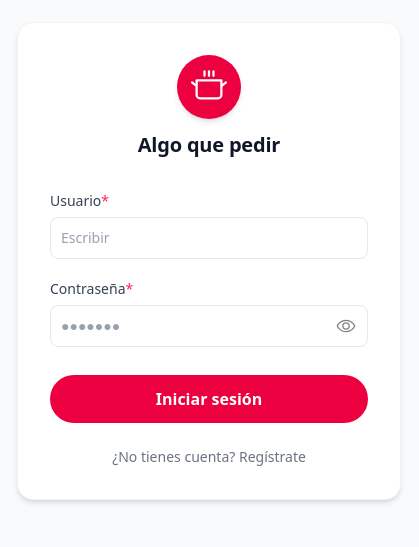
Test case: AuthForm › Modo Login › muestra errores cuando se envía el formulario con campos vacíos
Click the button "Iniciar sesión".
click(209, 399)  # box [50,375,368,423]
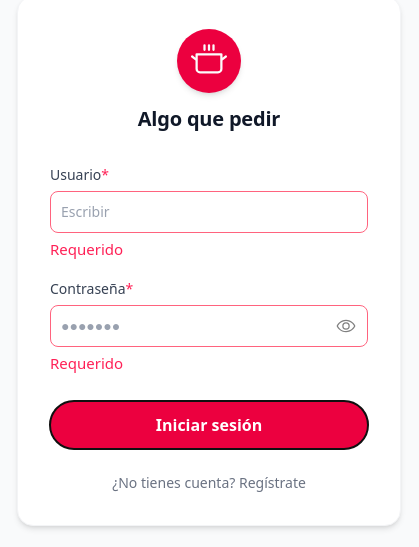
Expected: the text "Requerido" below "Usuario" is shown, [50,239,123,259]
